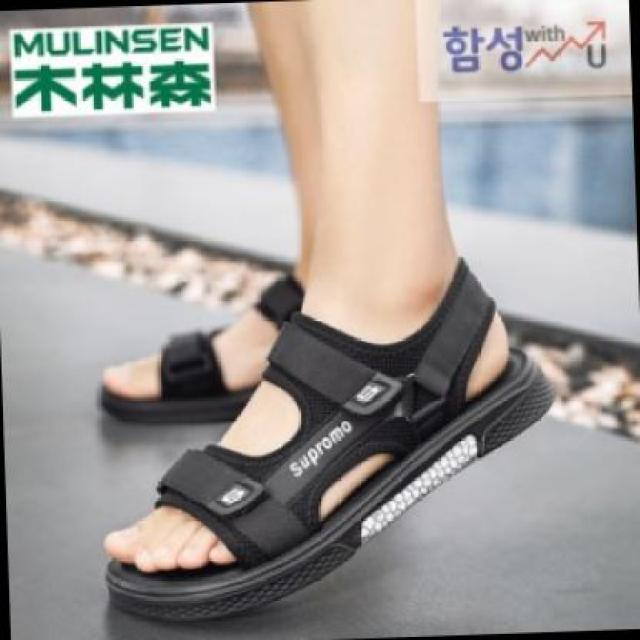Sandals: (61, 266, 584, 617)
